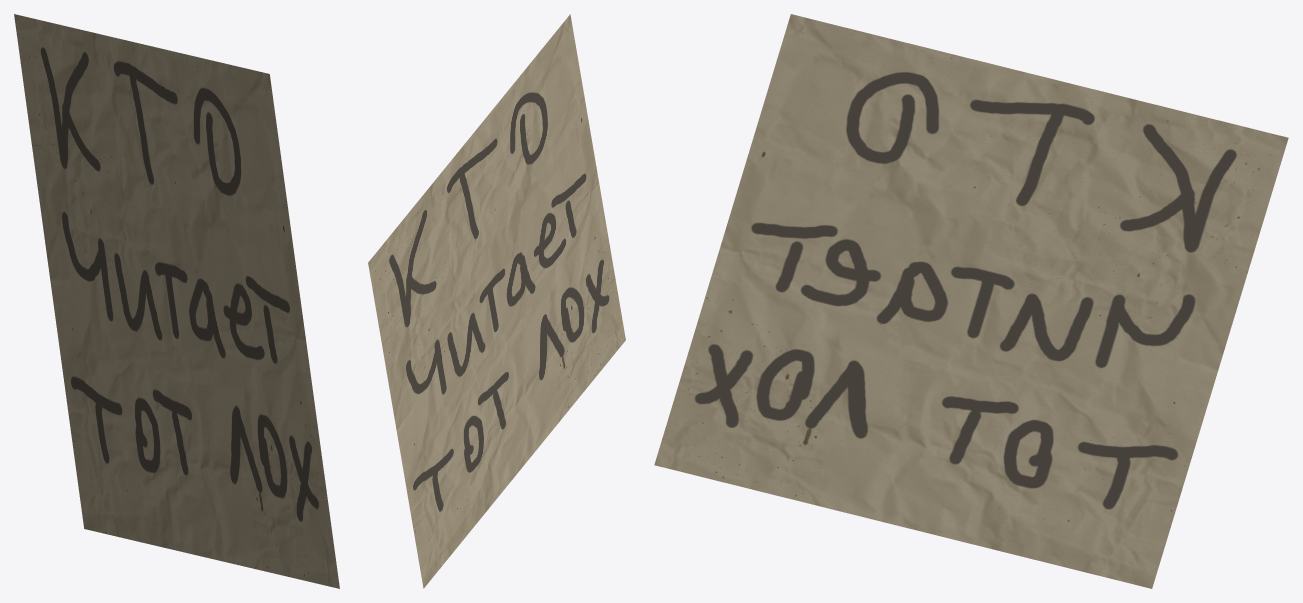
Rendered from small_note.glb.
3 renders of one model, left to right at view 1: azimuth 30°, elevation 25°; view 2: azimuth 150°, elevation 25°; view 3: azimuth 270°, elevation 25°, orthographic. The views are drawn at different scales.
Parts seen in each view (by area): view 1: small_note; view 2: small_note; view 3: small_note.
Part boxes in pixels (x1,y1,x2,y2): small_note: (14,14,339,588); small_note: (368,14,625,588); small_note: (654,14,1288,588).
Bounding box in the file's own units: 1.28e-07 × 1.33 × 1.33.
1 material, 1 textured.
